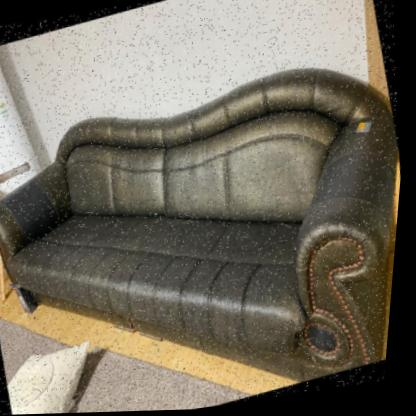Sofa: (0, 18, 414, 416)
